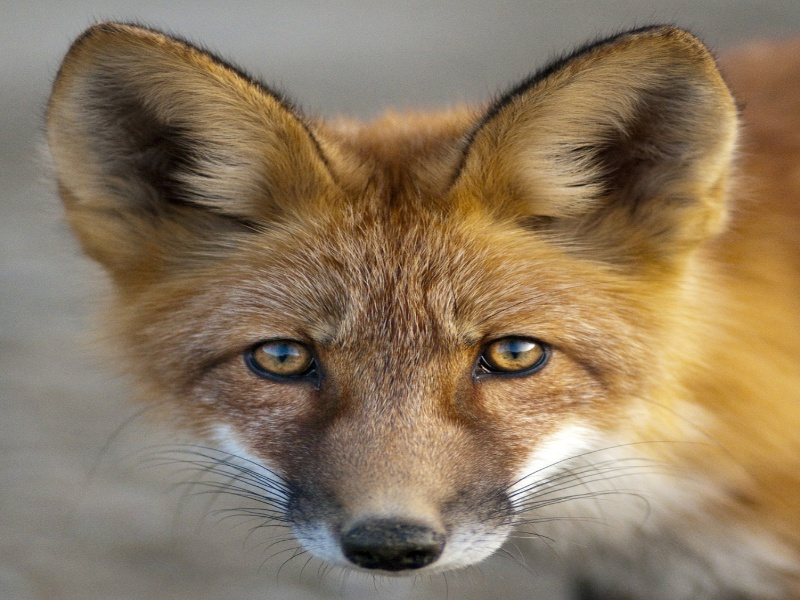fox: (43, 13, 743, 585)
